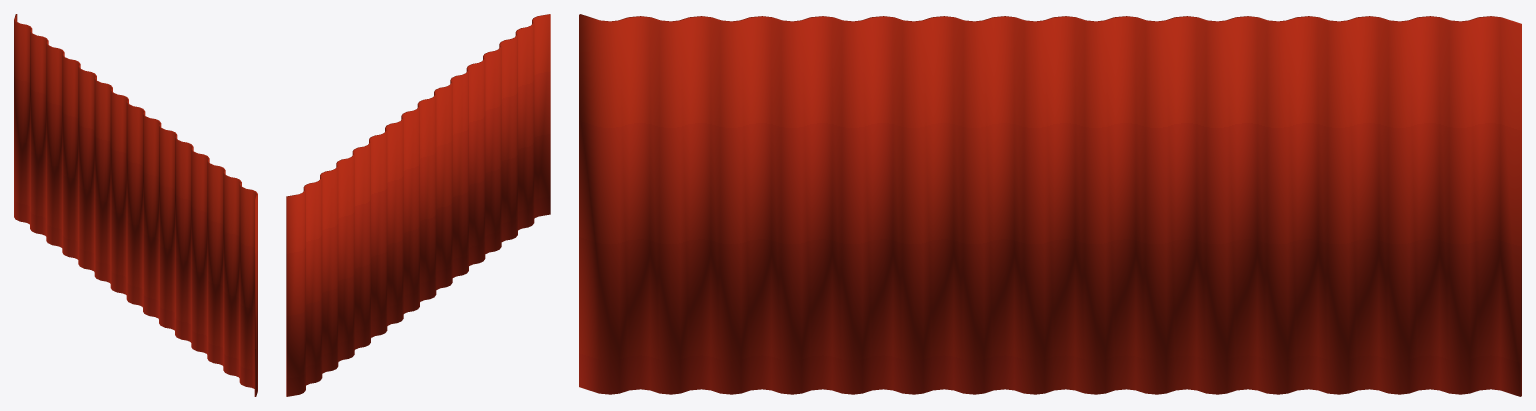
The model's file is Curtain.fbx.
3 renders of one model, left to right at view 1: azimuth 30°, elevation 25°; view 2: azimuth 150°, elevation 25°; view 3: azimuth 270°, elevation 25°, orthographic. The views are drawn at different scales.
Visible parts, largest first — view 1: Curtain; view 2: Curtain; view 3: Curtain.
Boxes of the visible parts, left/top/right/bottom form: Curtain: left=14, top=14, right=257, bottom=396; Curtain: left=286, top=14, right=550, bottom=396; Curtain: left=579, top=14, right=1521, bottom=396.
Bounding box in the file's own units: 19.47 × 313 × 719.
Materials: 1 (1 with a texture image).
